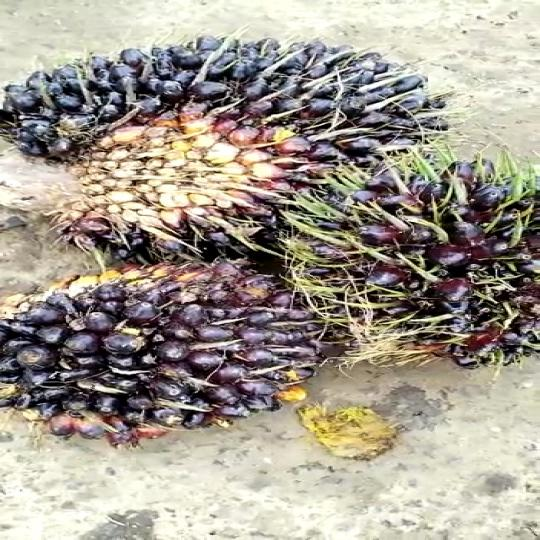mentah: (1, 34, 450, 267), (0, 250, 347, 469), (287, 148, 540, 366)
